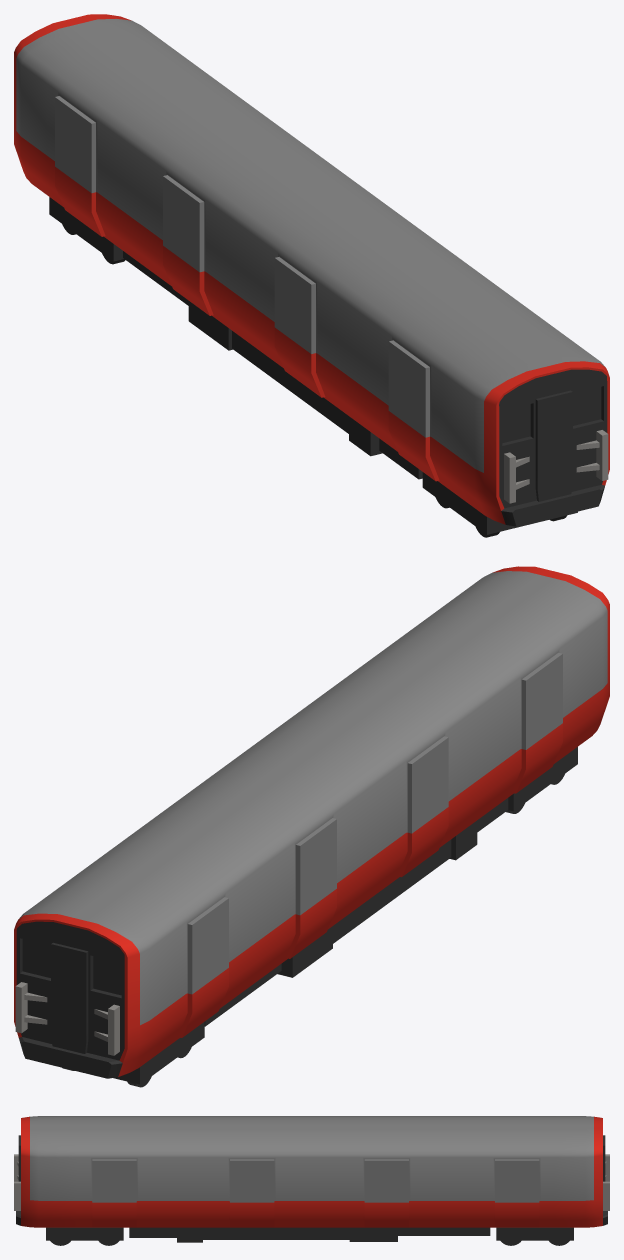
Rendered from redline.fbx.
3 renders of one model, top to bottom at view 1: azimuth 30°, elevation 25°; view 2: azimuth 150°, elevation 25°; view 3: azimuth 270°, elevation 25°, orthographic. The views are drawn at different scales.
Visible parts, largest first — view 1: Cube.007, Cylinder.004, Cube.006; view 2: Cube.007, Cylinder.004, Cube.006; view 3: Cube.007, Cylinder.004, Cube.006.
Boxes of the visible parts, <box> form: Cube.007: <box>14,14,609,526</box>; Cylinder.004: <box>49,197,577,537</box>; Cube.006: <box>504,430,608,503</box>; Cube.007: <box>14,566,609,1078</box>; Cylinder.004: <box>62,747,577,1087</box>; Cube.006: <box>15,982,119,1055</box>; Cube.007: <box>16,1116,607,1242</box>; Cylinder.004: <box>46,1227,573,1245</box>; Cube.006: <box>14,1154,609,1210</box>.
Bounding box in the file's own units: 473 × 590 × 2952.
